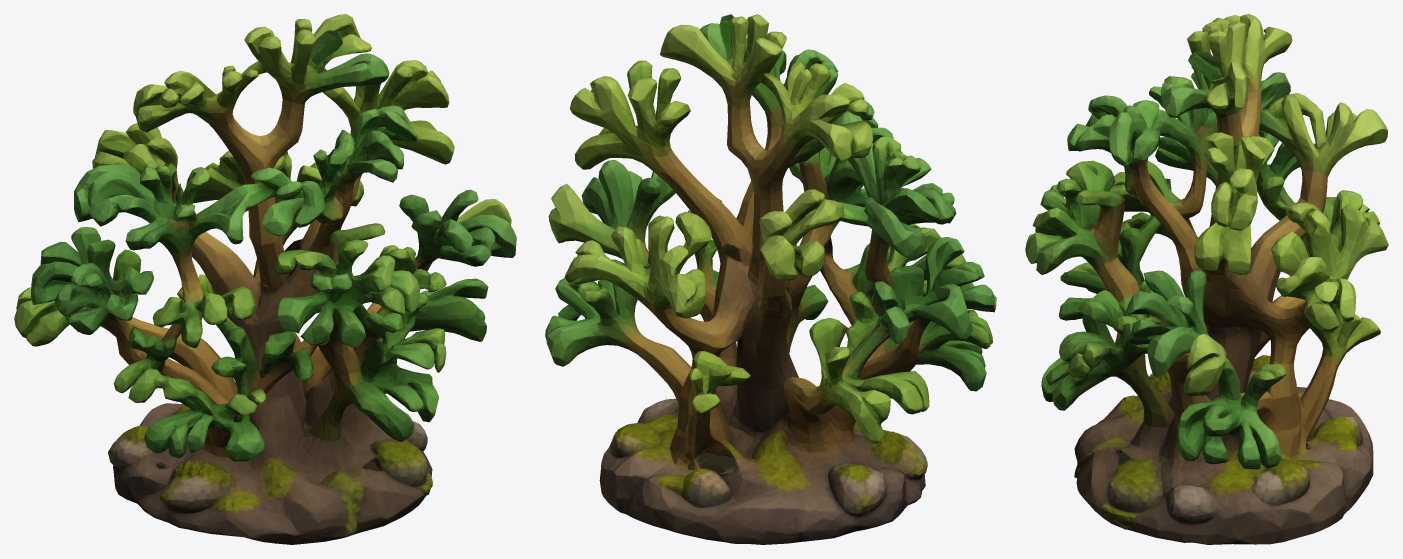
3 views of the same model, side by side, from view 1: azimuth 30°, elevation 25°; view 2: azimuth 150°, elevation 25°; view 3: azimuth 270°, elevation 25° (orthographic).
Parts seen in each view (by area): view 1: world; view 2: world; view 3: world.
Part boxes in pixels (x1,y1,x2,y2): world: (14, 14, 516, 544); world: (545, 14, 996, 544); world: (1025, 14, 1388, 544).
Bounding box in the file's own units: 0.0603 × 0.0601 × 0.0427.
Materials: 1 (1 with a texture image).
